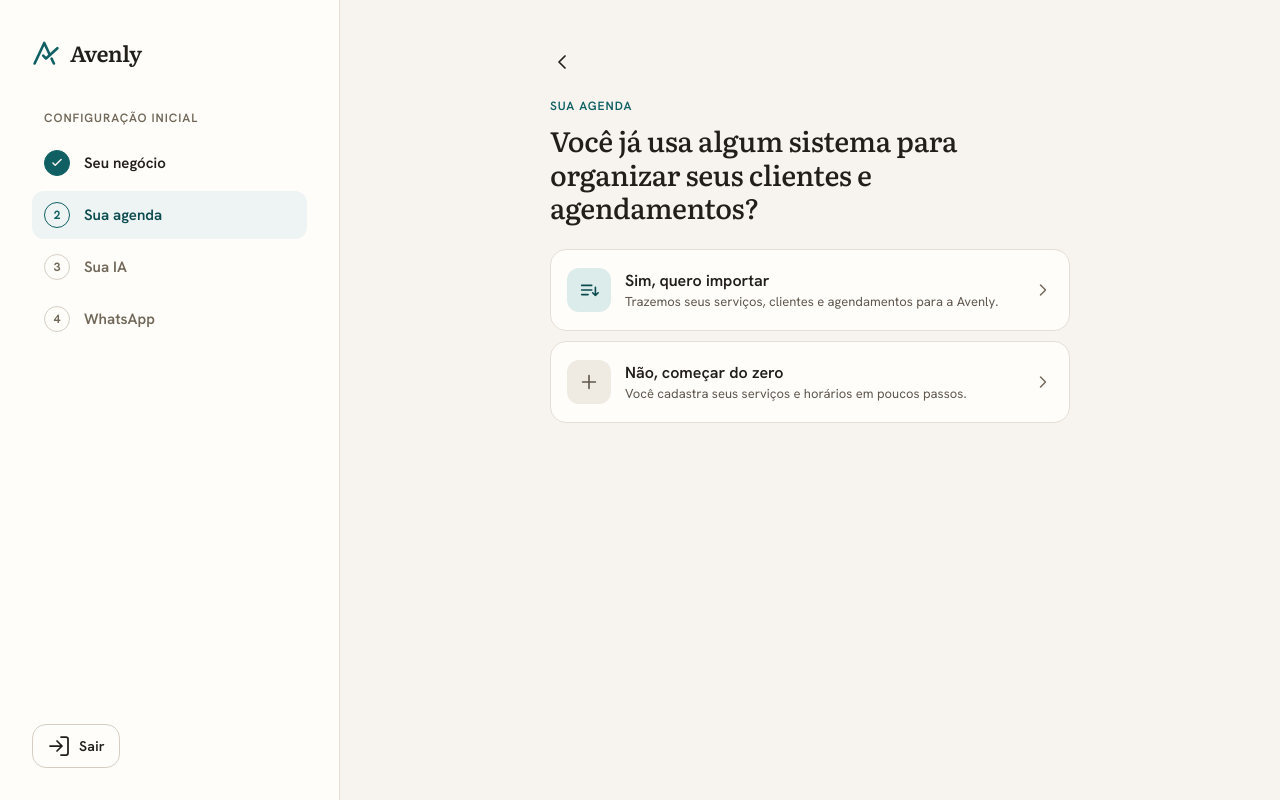
Test: sistema-atual: dois cards de ação, sem marcação e sem Continuar › 'Não, começar do zero' com falha no PATCH fica na etapa, com o erro de tela, sem avançar
This screenshot has width=1280, height=800.
Click the button "Não, começar do zero" at (810, 382), box [550,341,1070,423]
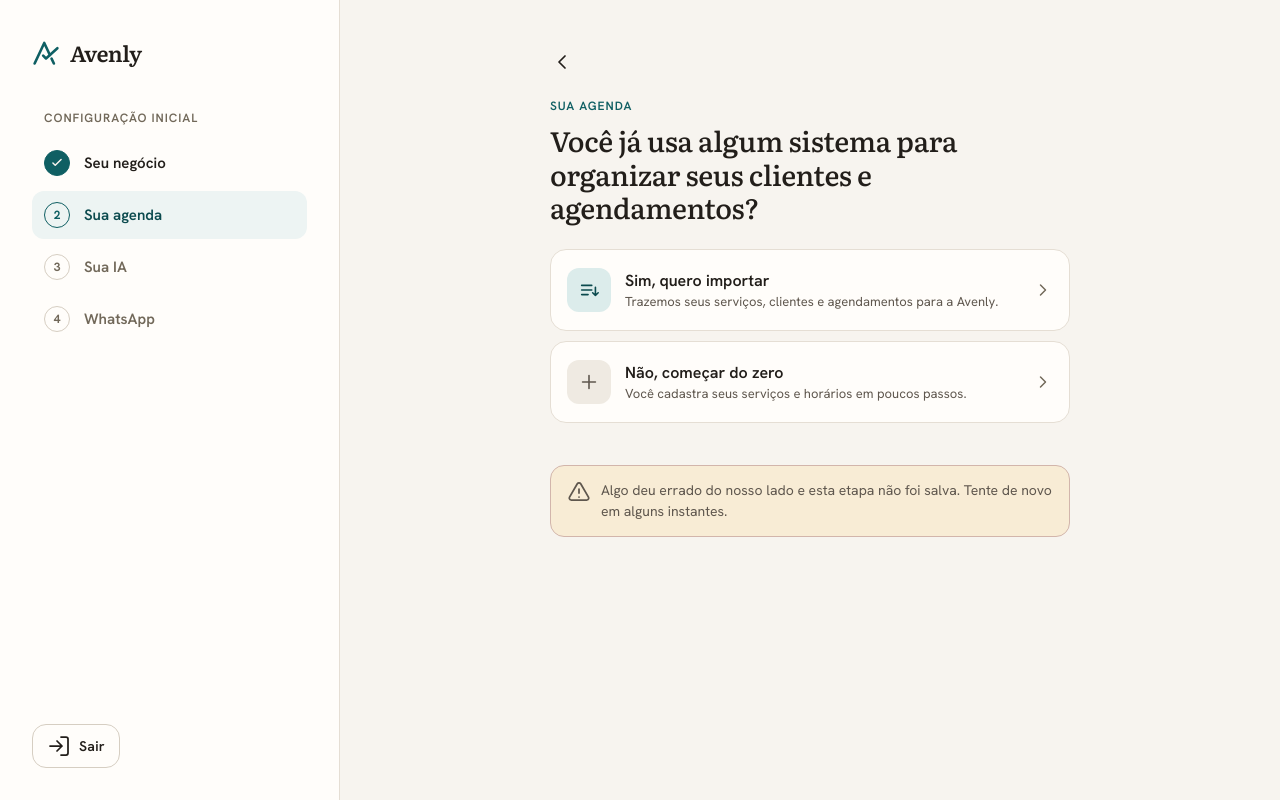
Expected: the text "Algo deu errado do nosso lado e esta etapa não foi salva. Tente de novo em alguns instantes." is shown, [601,481,1052,520]
